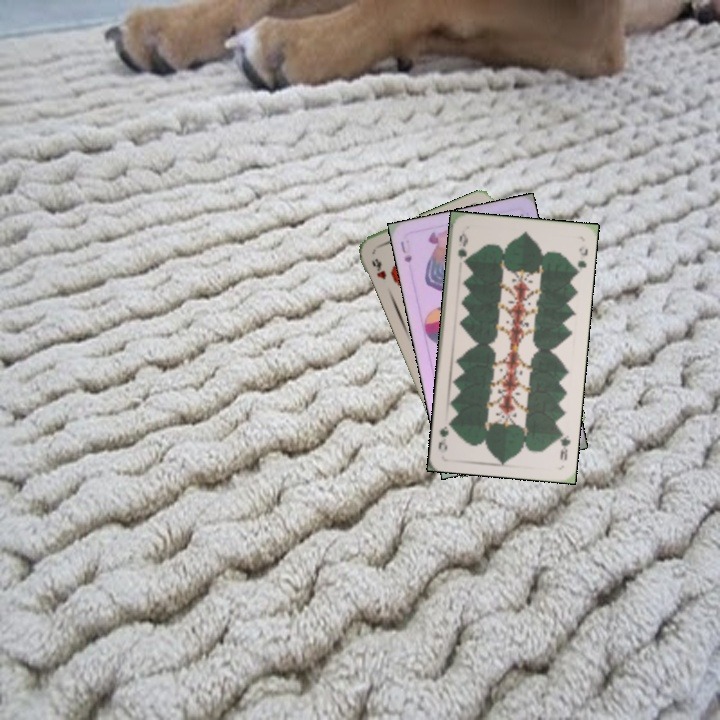G9: (555, 425, 573, 463), (454, 229, 471, 267)
H9: (367, 254, 389, 282)
SU: (396, 237, 414, 265)
